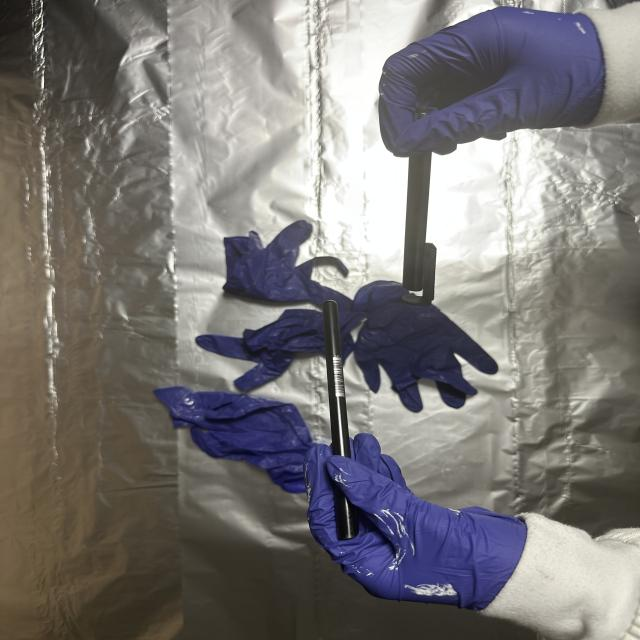gloves_contaminated: (304, 433, 526, 610), (378, 7, 604, 157)
